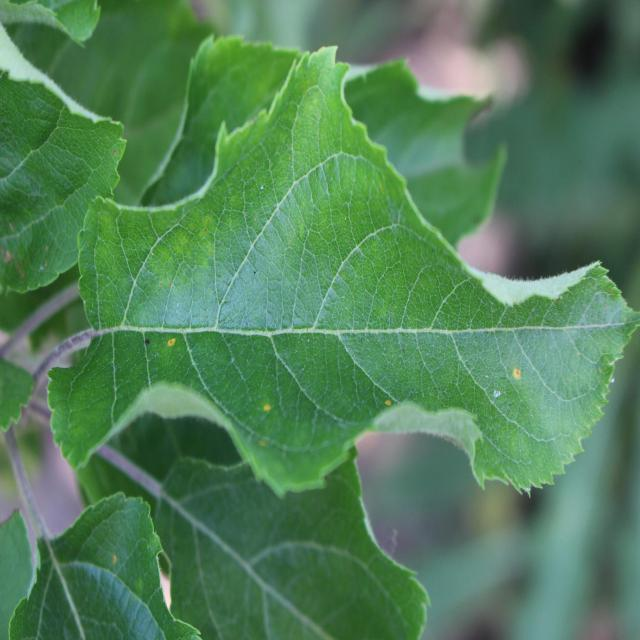Rust: (103, 533, 123, 583), (502, 359, 527, 387), (255, 395, 279, 421), (377, 395, 398, 410), (166, 337, 182, 355)
